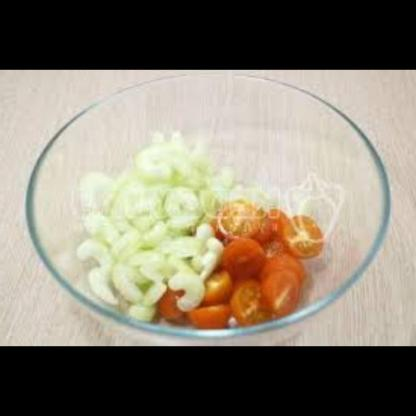celery: (71, 129, 233, 322)
tomato: (156, 182, 332, 327)
